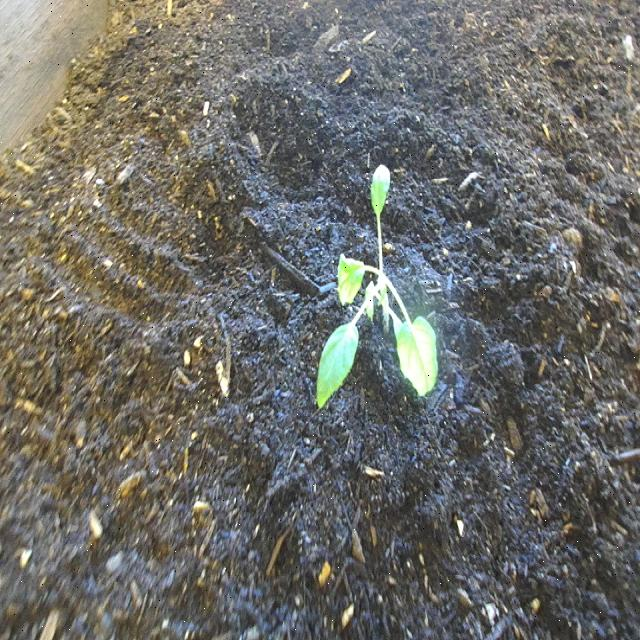Healthy: (303, 149, 447, 418)
